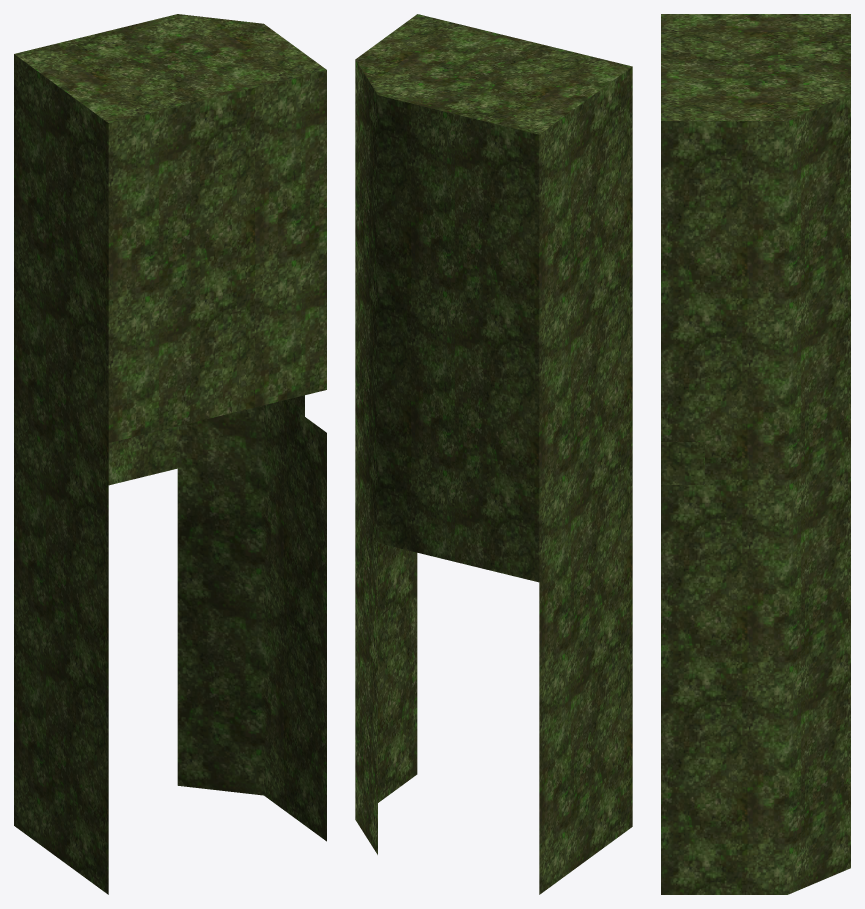
Rendered from OVERHILL_A_01_LINE160.fbx.
3 views of the same model, side by side, from view 1: azimuth 30°, elevation 25°; view 2: azimuth 150°, elevation 25°; view 3: azimuth 270°, elevation 25° (orthographic).
Parts seen in each view (by area): view 1: OVERHILL_A_01_LINE160; view 2: OVERHILL_A_01_LINE160; view 3: OVERHILL_A_01_LINE160.
Boxes of the visible parts, <box> form: OVERHILL_A_01_LINE160: <box>14,14,326,894</box>; OVERHILL_A_01_LINE160: <box>355,14,632,894</box>; OVERHILL_A_01_LINE160: <box>661,14,850,894</box>.
Size of the model in its own units: 40000 by 135072 by 30000.
Materials: 1 (1 with a texture image).
